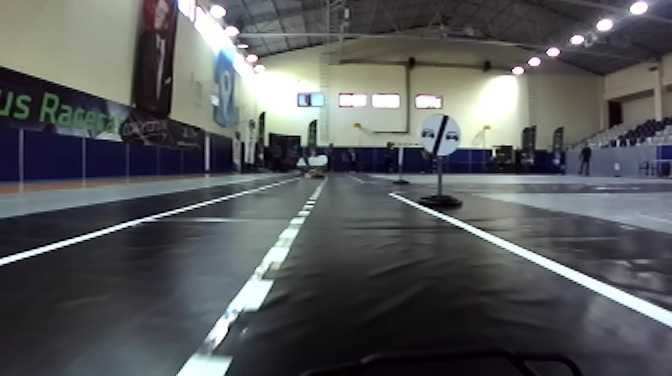sollama_serbest: (419, 113, 461, 156)
